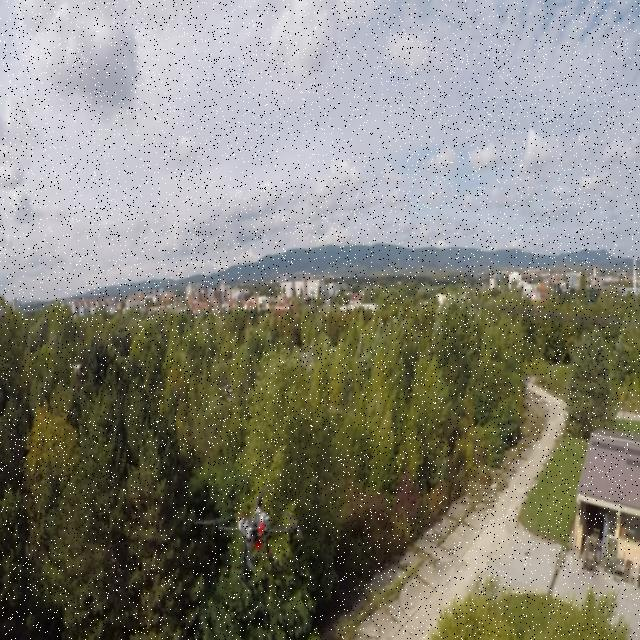UAV: (191, 489, 305, 594)
